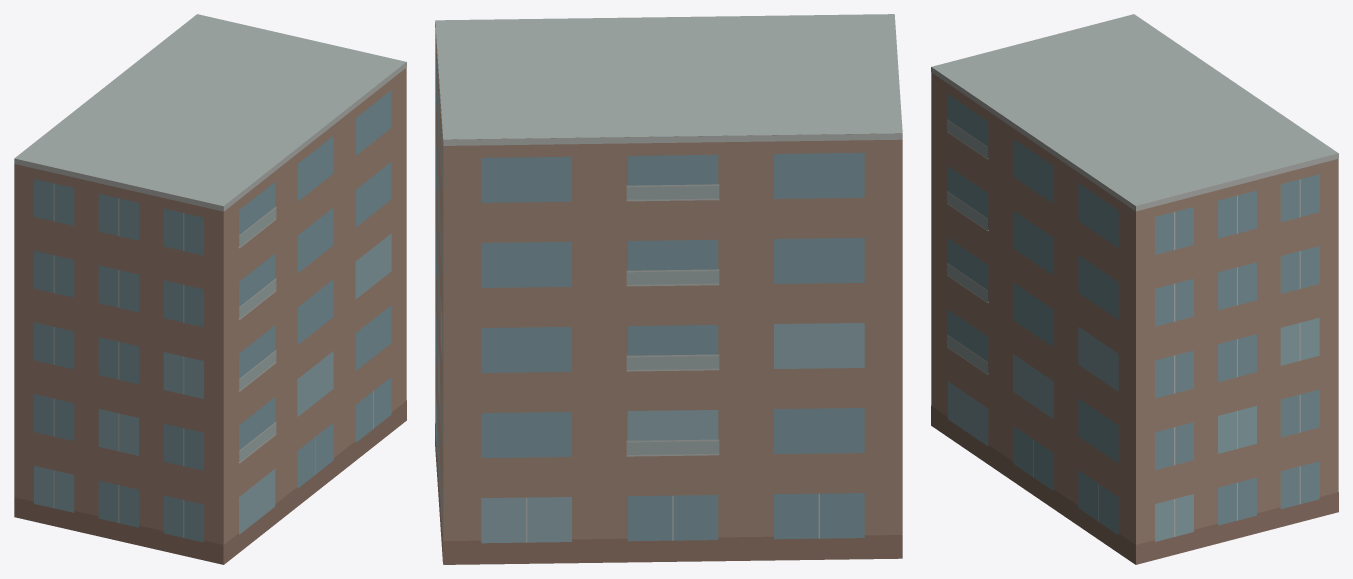
Rendered from survey-upis-33009242.glb.
The picture shows the model from 3 angles, left to right: view 1: azimuth 30°, elevation 25°; view 2: azimuth 150°, elevation 25°; view 3: azimuth 270°, elevation 25°; orthographic projection. The views are drawn at different scales.
Parts seen in each view (by area): view 1: survey-upis-33009242.tmp; view 2: survey-upis-33009242.tmp; view 3: survey-upis-33009242.tmp.
Part boxes in pixels (bbox=[...]): survey-upis-33009242.tmp: bbox=[14, 14, 406, 564]; survey-upis-33009242.tmp: bbox=[435, 14, 902, 564]; survey-upis-33009242.tmp: bbox=[931, 14, 1338, 564].
Bounding box in the file's own units: 18.61 × 16.2 × 16.69.
